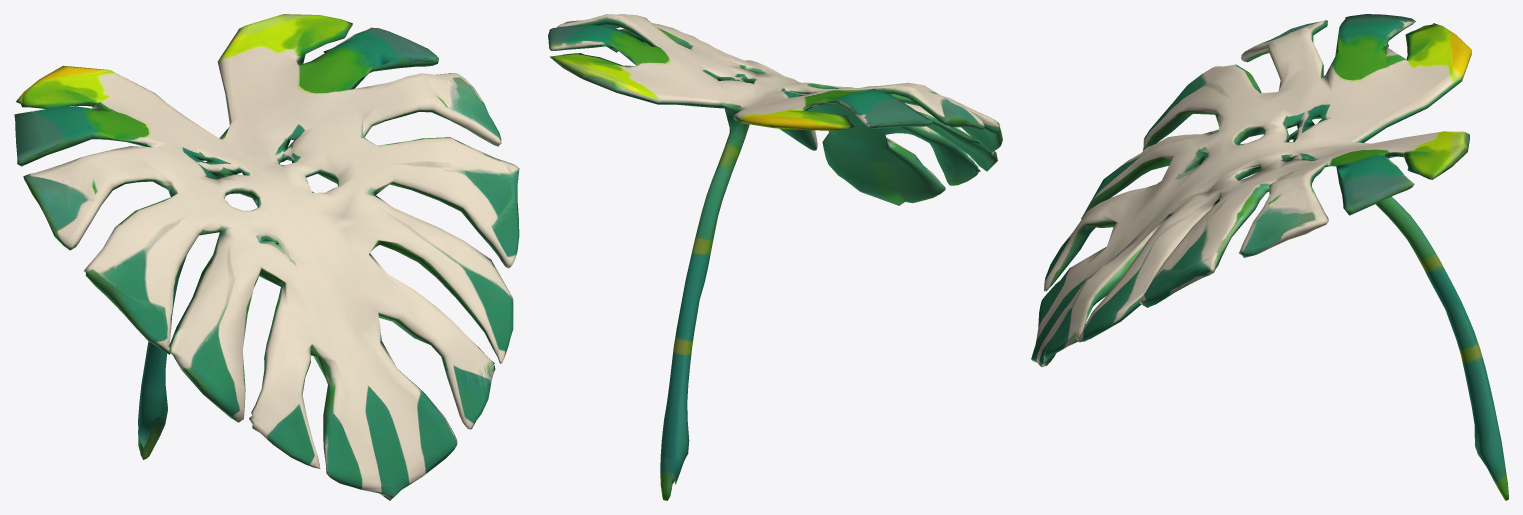
The model's file is mon_star_greenwhite_v1.glb.
3 views of the same model, side by side, from view 1: azimuth 30°, elevation 25°; view 2: azimuth 150°, elevation 25°; view 3: azimuth 270°, elevation 25° (orthographic). The views are drawn at different scales.
Parts seen in each view (by area): view 1: world; view 2: world; view 3: world.
Boxes of the visible parts, x1,y1,x2,y2 form: world: (14,14,519,500); world: (548,14,1002,500); world: (1031,14,1508,500).
Bounding box in the file's own units: 2 × 1.88 × 2.
1 material, 1 textured.
